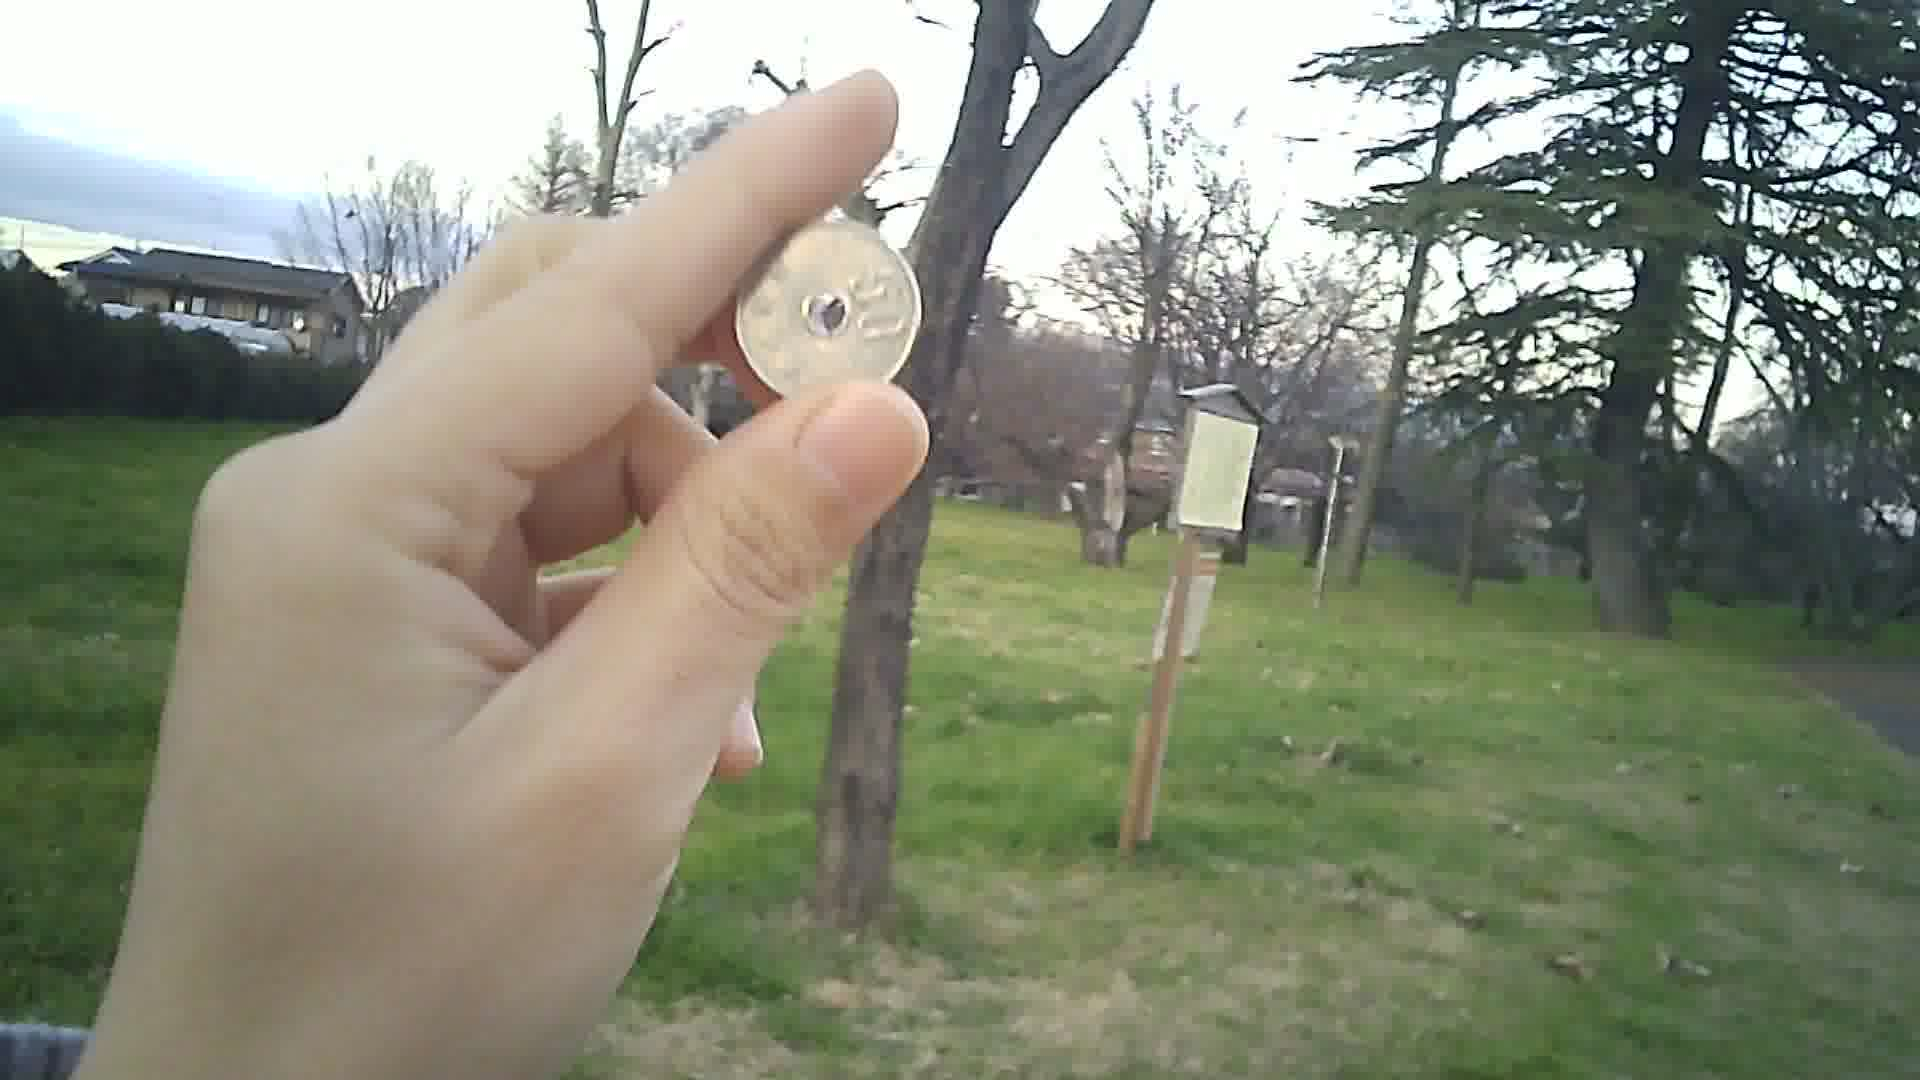50 Yen: (733, 222, 934, 405)
